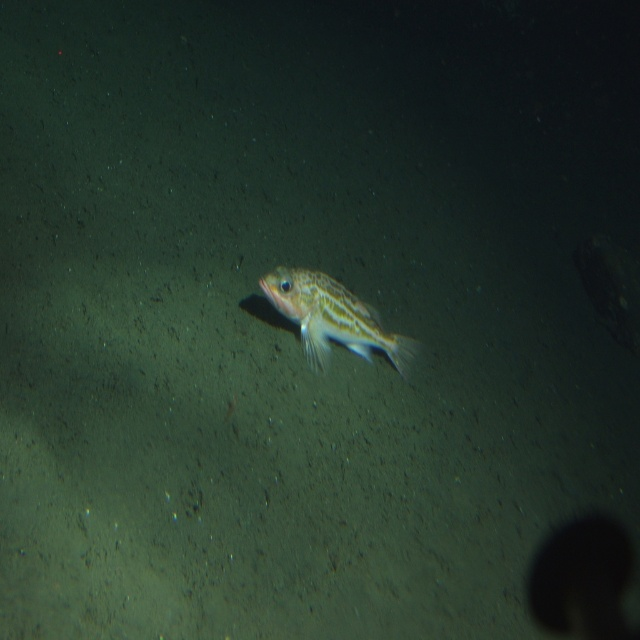Fish: (275, 274, 419, 402)
